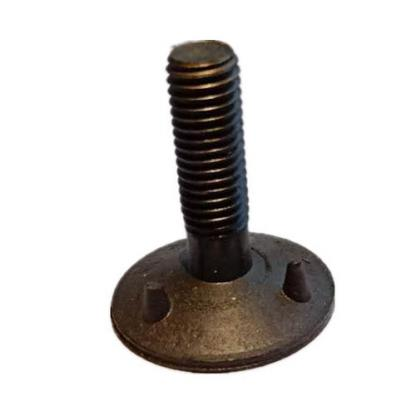FOD: (109, 34, 339, 376)
